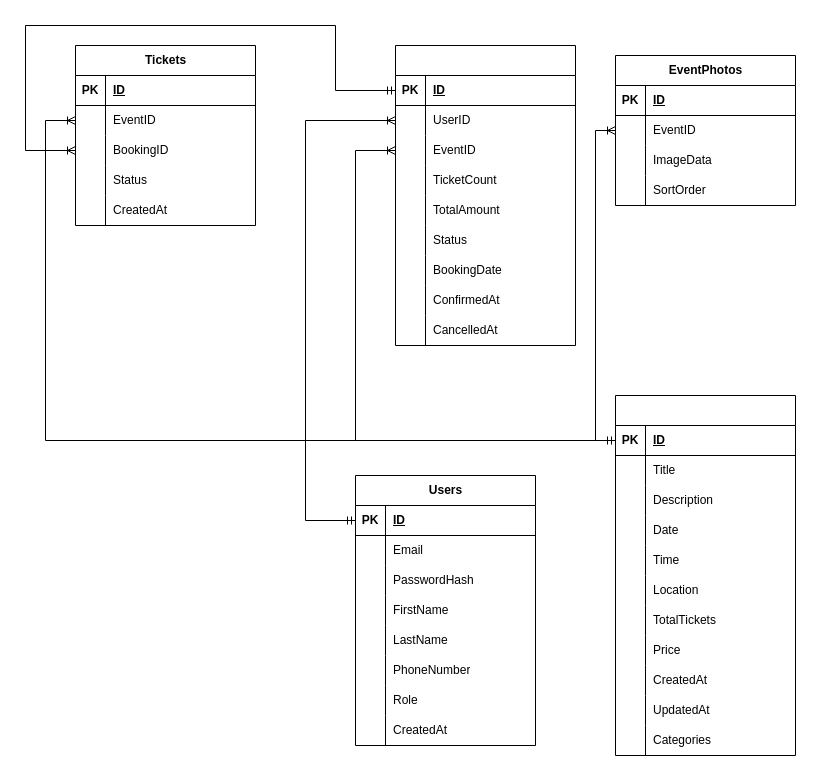
The diagram is 813 pixels wide and 773 high, and some of its shapes have lost their labels. The box of each missing label's shape, as (x1, y1, x2, y2) in pixels:
Bookings: (394, 44, 576, 346)
Events: (614, 394, 796, 756)
